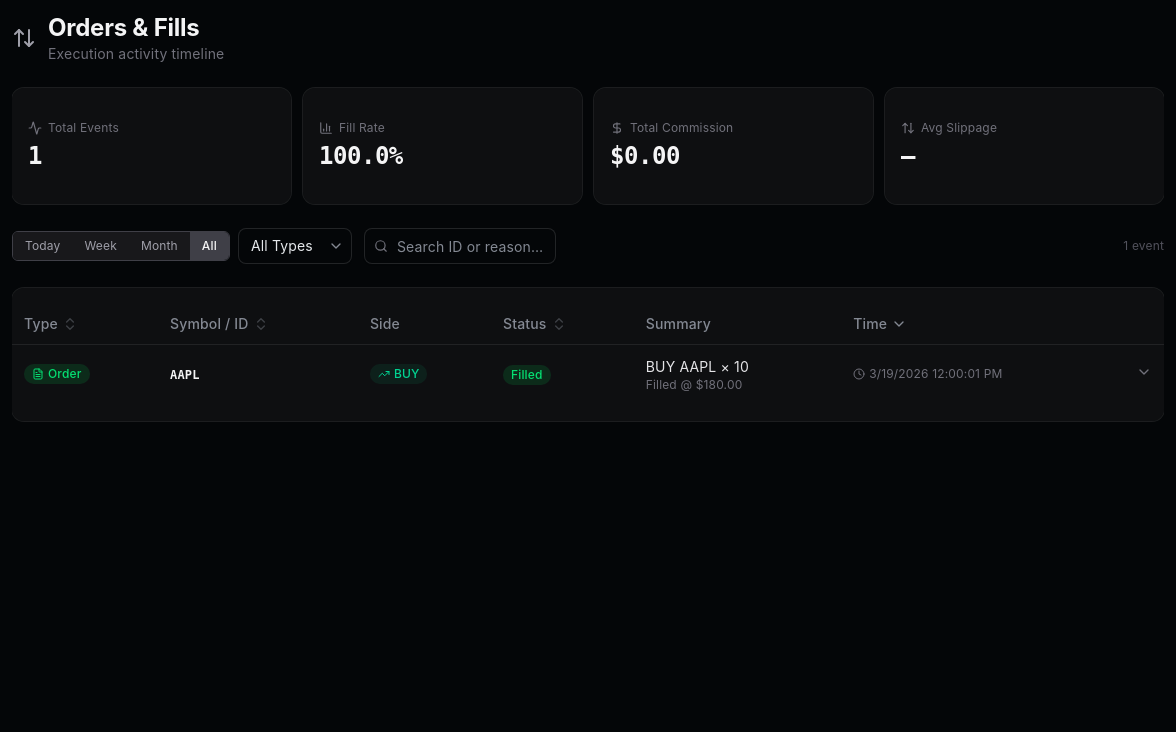
OrdersPage › clicking expand button shows detail panel
Click the button named "Expand details" at coordinates (1144, 372), box x1=1136 y1=364 x2=1152 y2=380
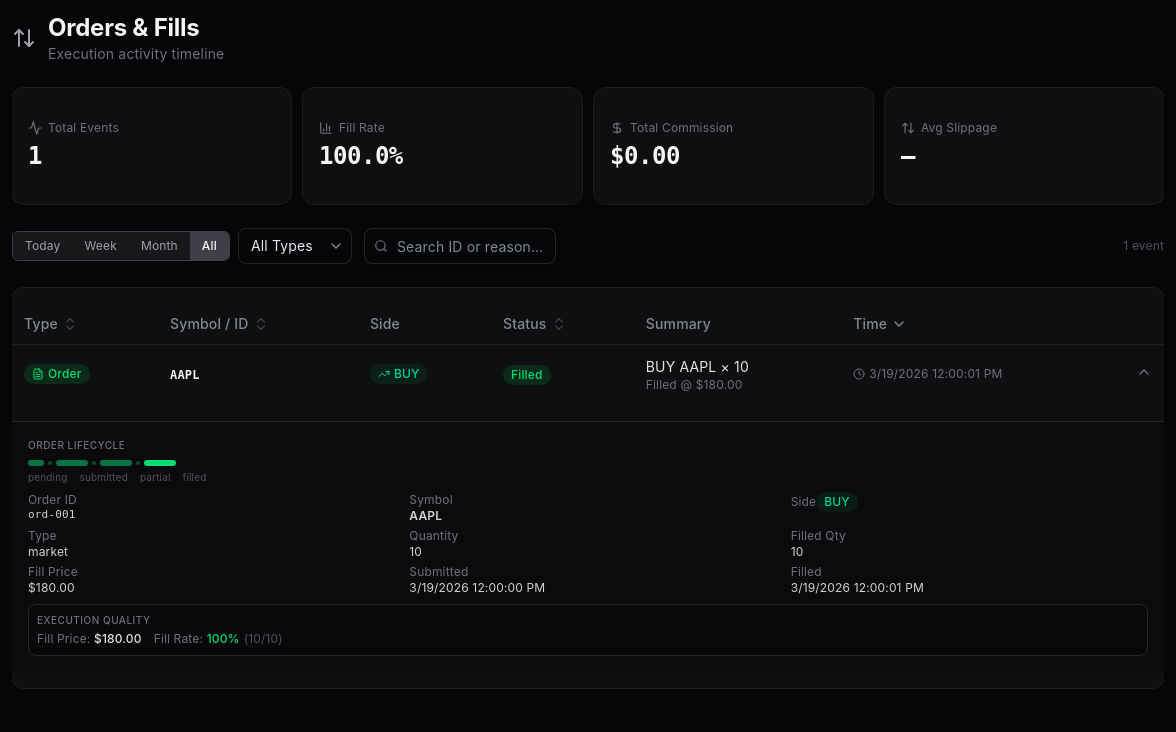
Result: the text "Order Lifecycle" is shown at x1=28 y1=438 x2=125 y2=450
